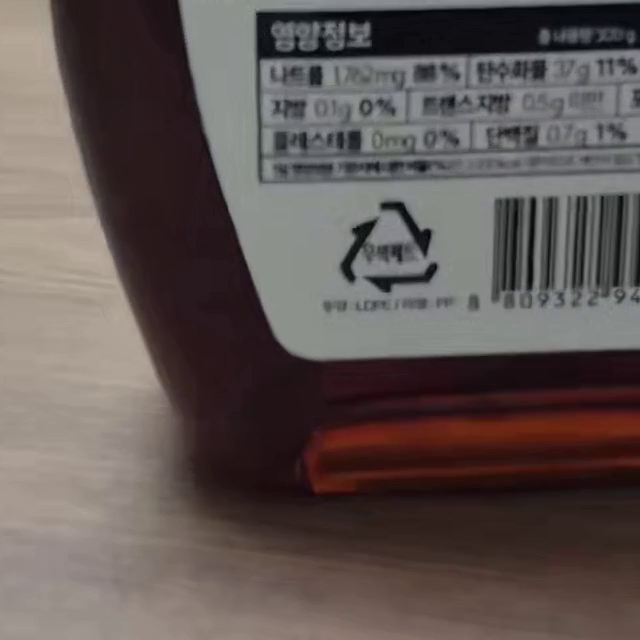ColorlessPet: (340, 198, 439, 294)
